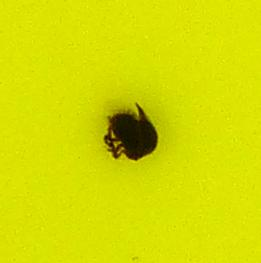Hymenoptera: (100, 100, 161, 163)
